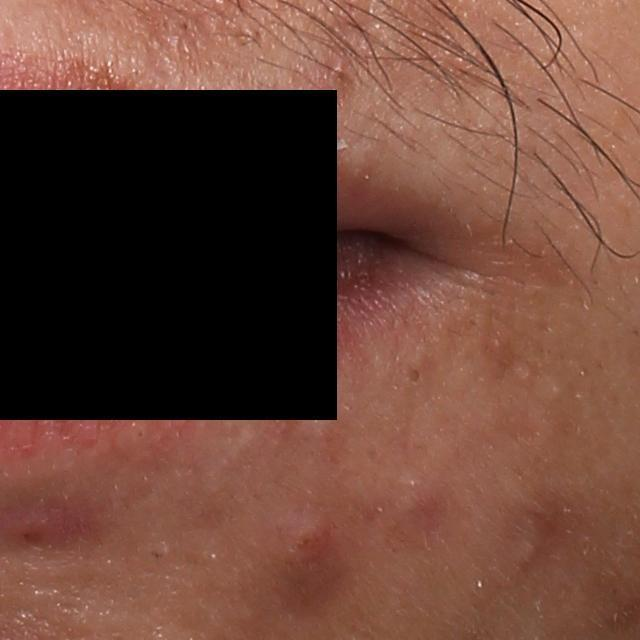comedo: (510, 537, 537, 566), (404, 365, 426, 386)
papule: (375, 466, 451, 554), (265, 509, 335, 590), (15, 508, 89, 543)
